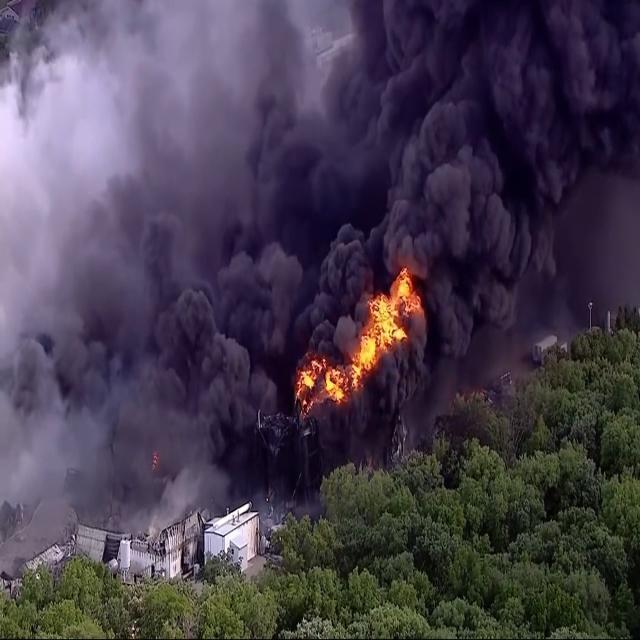Fire: (297, 263, 423, 418)
Smoke: (0, 0, 640, 496)
